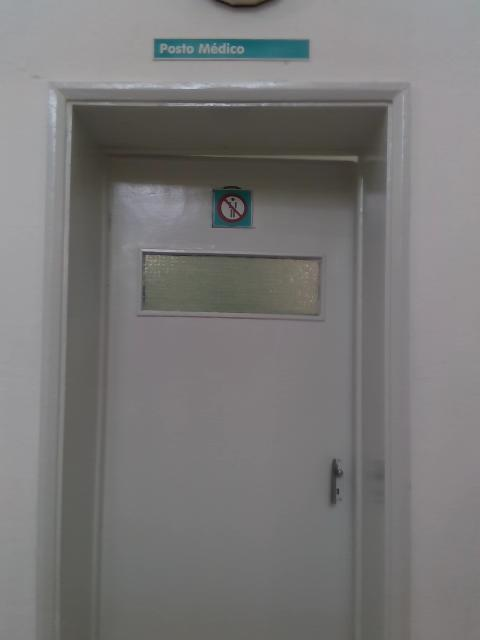door: (95, 160, 355, 640)
